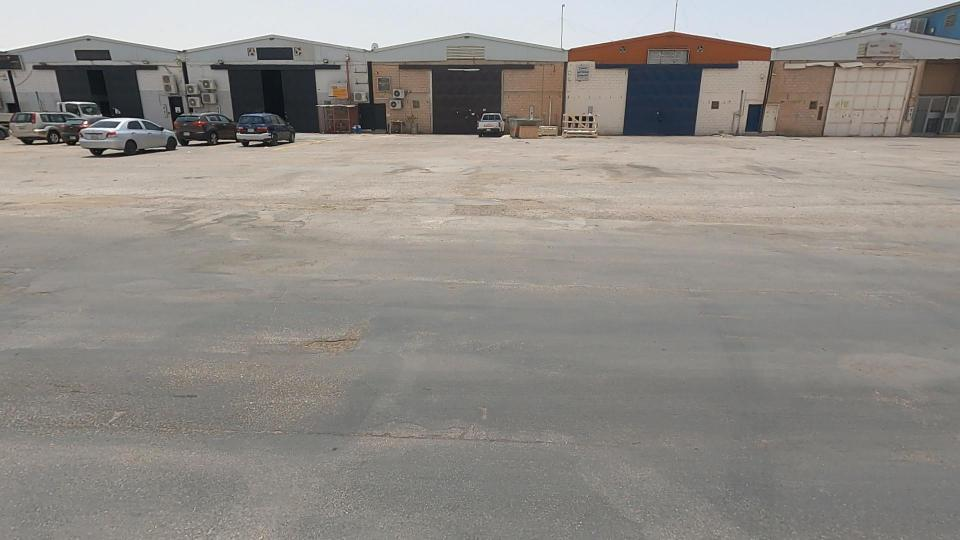POTHOLES: (225, 161, 396, 263), (248, 302, 424, 390), (437, 162, 596, 249)
